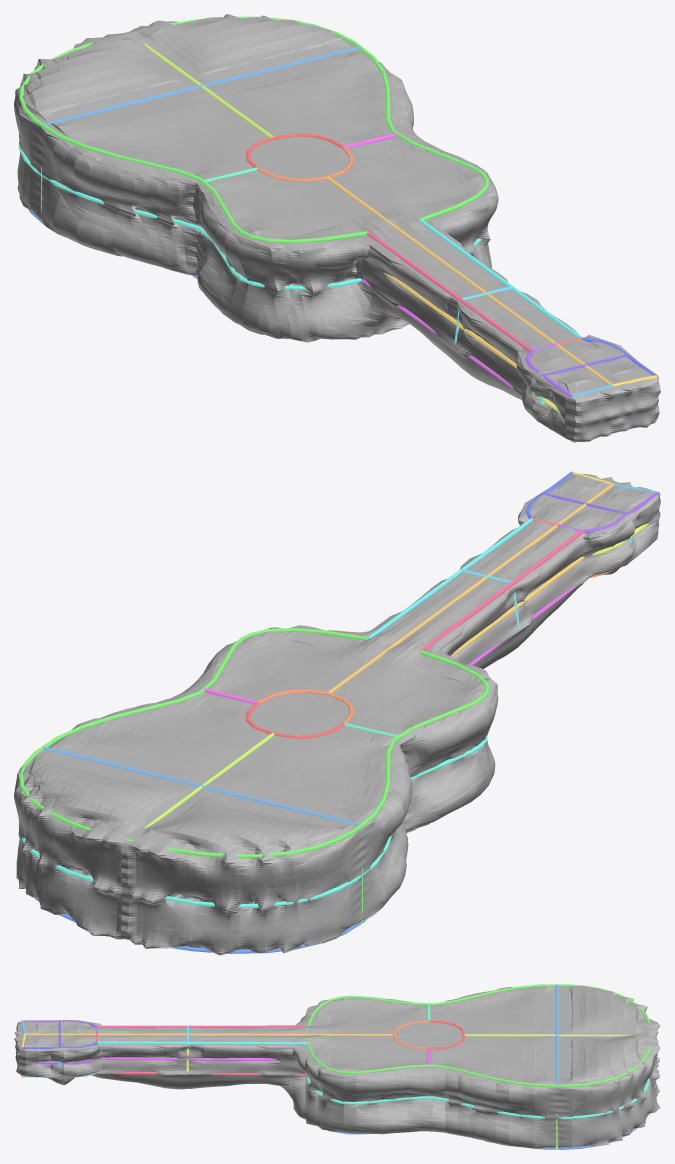
The model's file is t2f_guitar.gltf.
The picture shows the model from 3 angles, top to bottom: view 1: azimuth 30°, elevation 25°; view 2: azimuth 150°, elevation 25°; view 3: azimuth 270°, elevation 25°; orthographic projection. The views are drawn at different scales.
Bounding box in the file's own units: 0.367 × 0.1264 × 0.9555.
